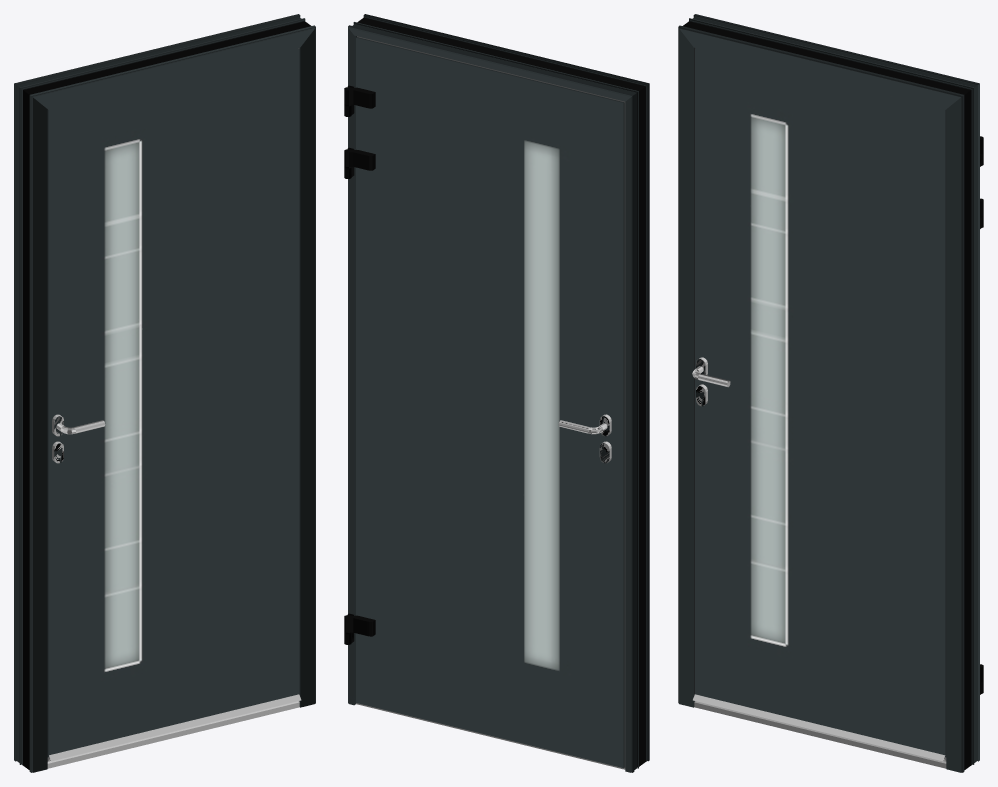
3 renders of one model, left to right at view 1: azimuth 30°, elevation 25°; view 2: azimuth 150°, elevation 25°; view 3: azimuth 330°, elevation 25°, orthographic.
Parts seen in each view (by area): view 1: ouvrant, 105; view 2: ouvrant, 105; view 3: ouvrant, 105.
Boxes of the visible parts, box(x1,y1,x2,y2) form: ouvrant: box(47, 48, 301, 761); 105: box(14, 14, 315, 772); ouvrant: box(344, 36, 625, 768); 105: box(344, 14, 649, 772); ouvrant: box(693, 48, 983, 761); 105: box(678, 14, 983, 772).
Size of the model in its own units: 96 by 218 by 24.64.
Materials: 1 (1 with a texture image).
